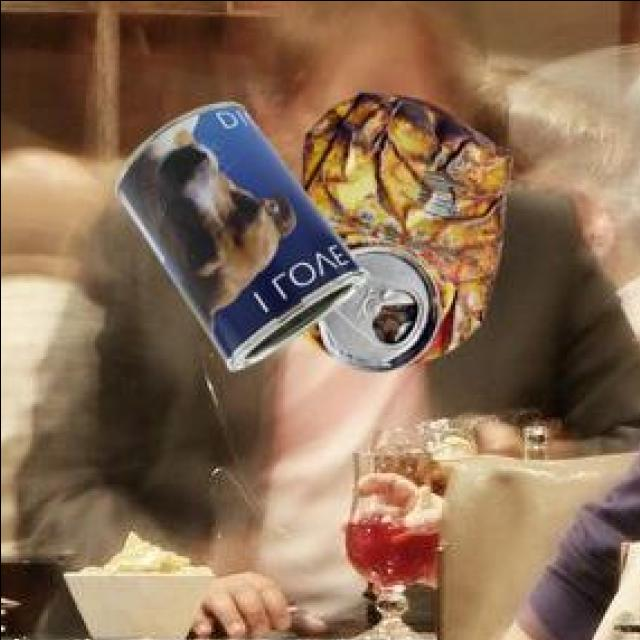logam: (117, 97, 373, 366), (305, 88, 514, 368)
